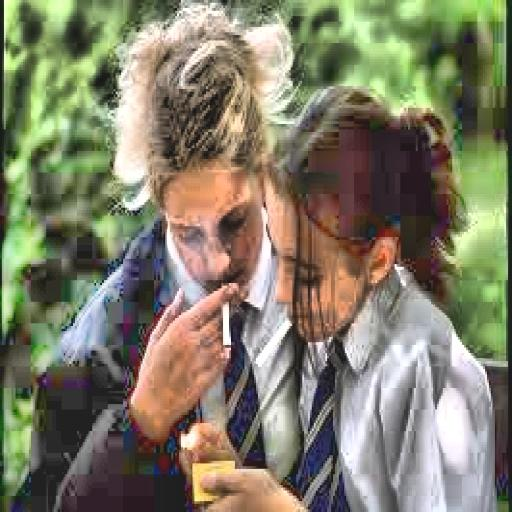fire: (171, 415, 204, 447)
